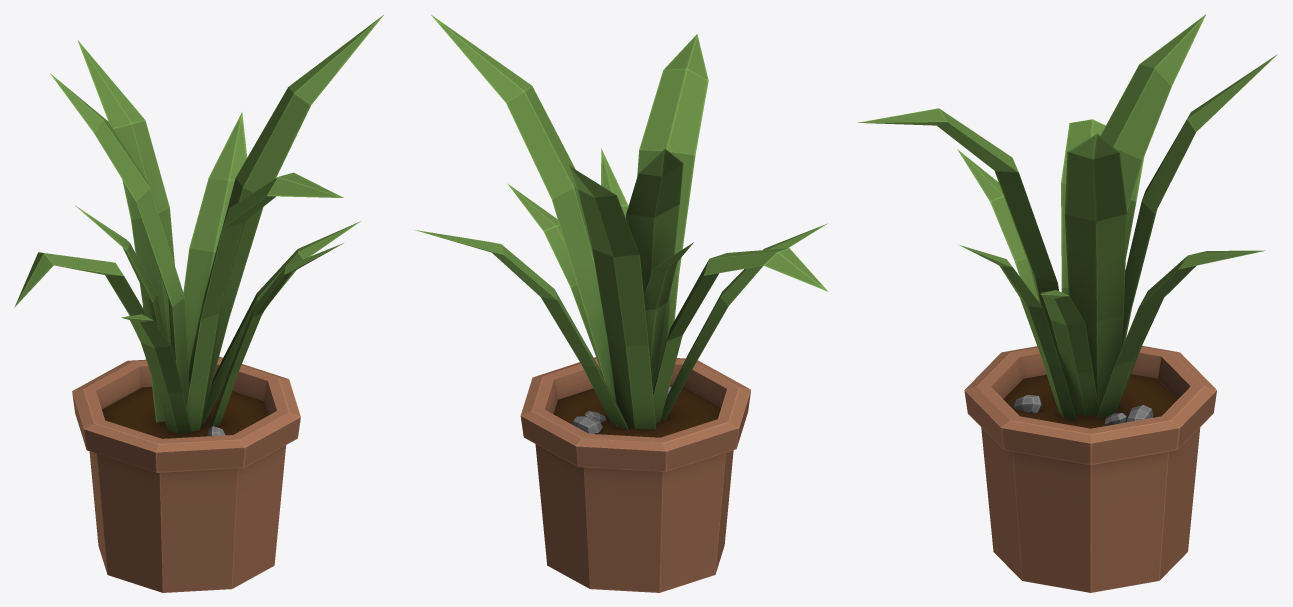
File: plant1.glb
3 renders of one model, left to right at view 1: azimuth 30°, elevation 25°; view 2: azimuth 150°, elevation 25°; view 3: azimuth 270°, elevation 25°, orthographic. The views are drawn at different scales.
Visible parts, largest first — view 1: House plant; view 2: House plant; view 3: House plant.
Boxes of the visible parts, <box> form: House plant: <box>14,15,383,592</box>; House plant: <box>415,15,828,592</box>; House plant: <box>857,14,1277,592</box>.
Size of the model in its own units: 0.0485 by 0.0593 by 0.0434.
Materials: 1 (1 with a texture image).
